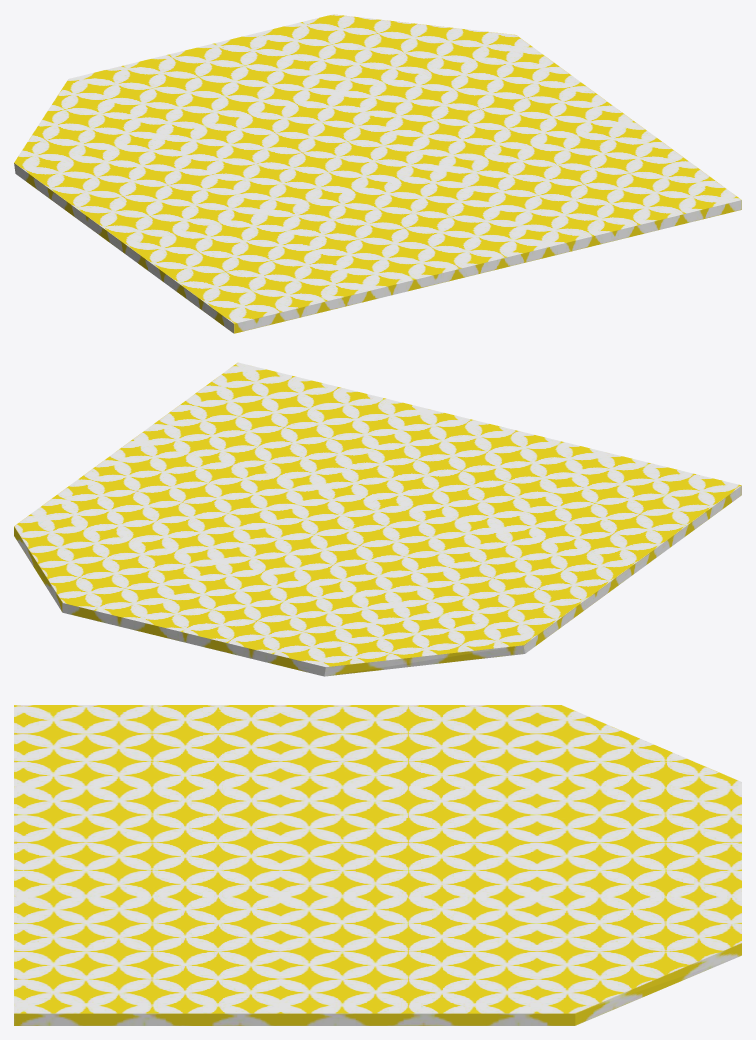
File: s_zemin.obj
3 views of the same model, one above another, from view 1: azimuth 30°, elevation 25°; view 2: azimuth 150°, elevation 25°; view 3: azimuth 270°, elevation 25° (orthographic). The views are drawn at different scales.
Visible parts, largest first — view 1: Cube.144_zemin_sarı; view 2: Cube.144_zemin_sarı; view 3: Cube.144_zemin_sarı.
Part boxes in pixels (x1,y1,x2,y2): Cube.144_zemin_sarı: (14,14,741,333); Cube.144_zemin_sarı: (14,362,741,676); Cube.144_zemin_sarı: (14,705,741,1025).
Bounding box in the file's own units: 68.08 × 1.26 × 67.9.
